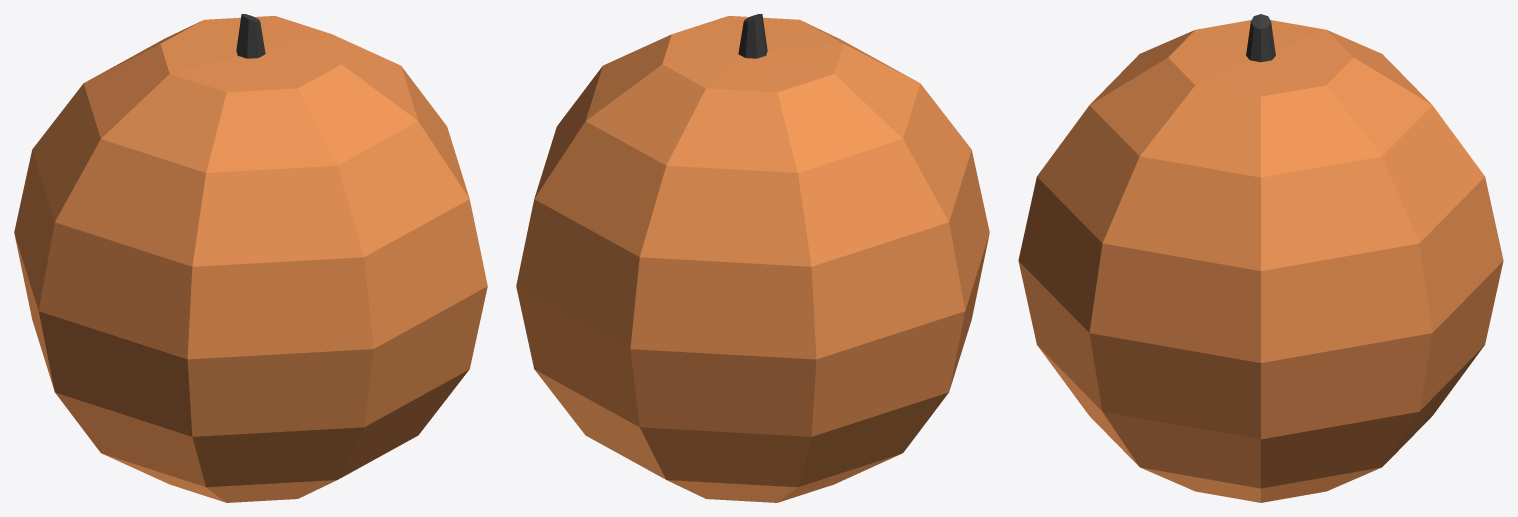
The model's file is Orange.fbx.
3 renders of one model, left to right at view 1: azimuth 30°, elevation 25°; view 2: azimuth 150°, elevation 25°; view 3: azimuth 270°, elevation 25°, orthographic.
Parts seen in each view (by area): view 1: Cube; view 2: Cube; view 3: Cube.
Boxes of the visible parts, x1,y1,x2,y2 form: Cube: (14,14,487,502); Cube: (516,14,989,502); Cube: (1018,14,1503,502).
Size of the model in its own units: 200 by 210 by 200.
